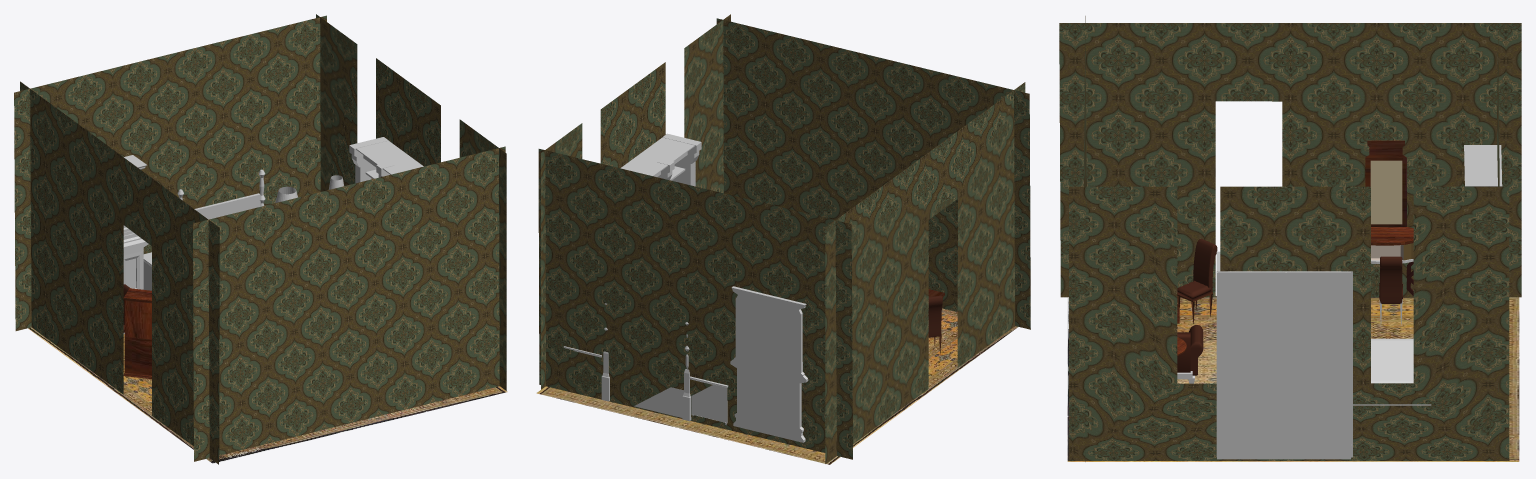
File: Maid_room.fbx
3 renders of one model, left to right at view 1: azimuth 30°, elevation 25°; view 2: azimuth 150°, elevation 25°; view 3: azimuth 270°, elevation 25°, orthographic. The views are drawn at different scales.
Visible parts, largest first — view 1: Cube.670, Cube.668, Cube.669, Plane.037, Plane.002, Cube.666, Cube.673, Plane.067, Cube.590; view 2: Cube.668, Cube.670, Cube.669, Plane.037, Plane.067, Plane.002, Cube.673, Cube.606, Cube.596, Cube.619; view 3: Plane.037, Cube.669, Cube.673, Plane.002, Cube.635, Sphere.184, Plane.067, Cube.656, Cube.658, Cube.619, Plane.088, Cube.632.
Boxes of the visible parts, x1=… form: Cube.670: x1=193, y1=146, x2=505, y2=461; Cube.668: x1=14, y1=15, x2=326, y2=330; Cube.669: x1=20, y1=81, x2=219, y2=464; Plane.037: x1=316, y1=14, x2=506, y2=390; Plane.002: x1=28, y1=327, x2=507, y2=463; Cube.666: x1=123, y1=288, x2=151, y2=379; Cube.673: x1=349, y1=137, x2=423, y2=183; Plane.067: x1=123, y1=155, x2=148, y2=289; Cube.590: x1=194, y1=193, x2=260, y2=219; Cube.668: x1=538, y1=149, x2=852, y2=459; Cube.670: x1=716, y1=18, x2=1030, y2=329; Cube.669: x1=825, y1=82, x2=1025, y2=463; Plane.037: x1=541, y1=14, x2=730, y2=389; Plane.067: x1=730, y1=286, x2=808, y2=442; Plane.002: x1=536, y1=308, x2=1018, y2=464; Cube.673: x1=620, y1=133, x2=701, y2=186; Cube.606: x1=689, y1=376, x2=728, y2=422; Cube.596: x1=634, y1=387, x2=683, y2=417; Cube.619: x1=928, y1=295, x2=942, y2=337; Plane.037: x1=1068, y1=186, x2=1509, y2=460; Cube.669: x1=1059, y1=23, x2=1521, y2=297; Cube.673: x1=1216, y1=251, x2=1352, y2=459; Plane.002: x1=1067, y1=296, x2=1519, y2=461; Cube.635: x1=1370, y1=160, x2=1402, y2=224; Sphere.184: x1=1371, y1=338, x2=1413, y2=383; Plane.067: x1=1464, y1=145, x2=1502, y2=186; Cube.656: x1=1365, y1=140, x2=1406, y2=226; Cube.658: x1=1380, y1=256, x2=1402, y2=303; Cube.619: x1=1193, y1=238, x2=1217, y2=292; Plane.088: x1=1371, y1=227, x2=1413, y2=245; Cube.632: x1=1189, y1=325, x2=1203, y2=375.
Size of the model in its own units: 387 by 285 by 428.
